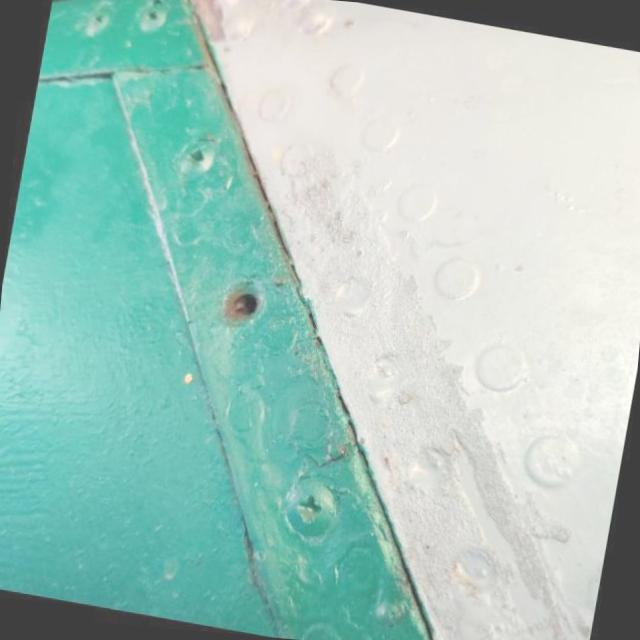Missing Fastener: (204, 272, 274, 336)
